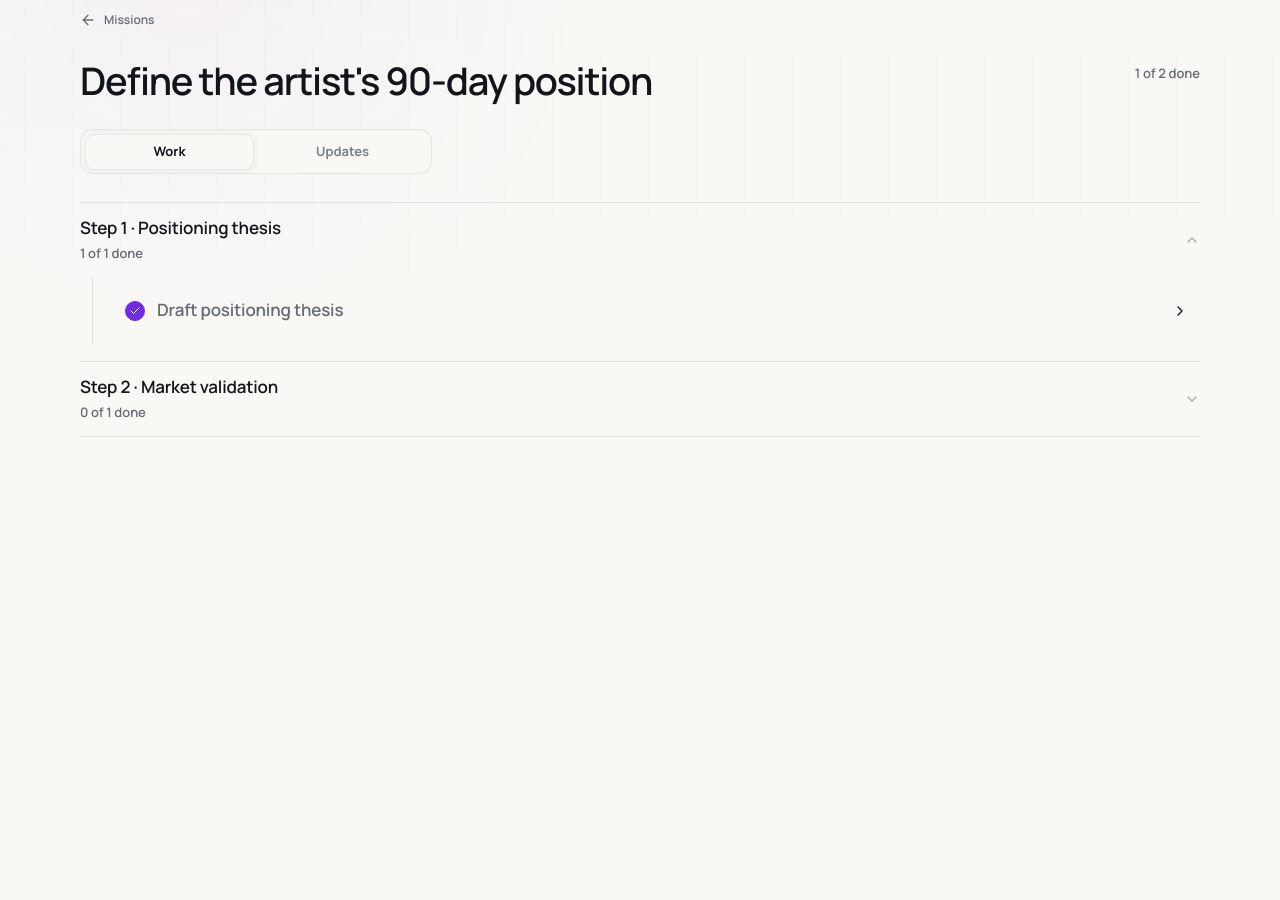
it: mobile-first mission workspace › keeps downstream work locked until Manager review is actually met
Click the button "Step 2 · Market validation 0 of 1 done" at point(105, 386), box [80,362,1200,436]
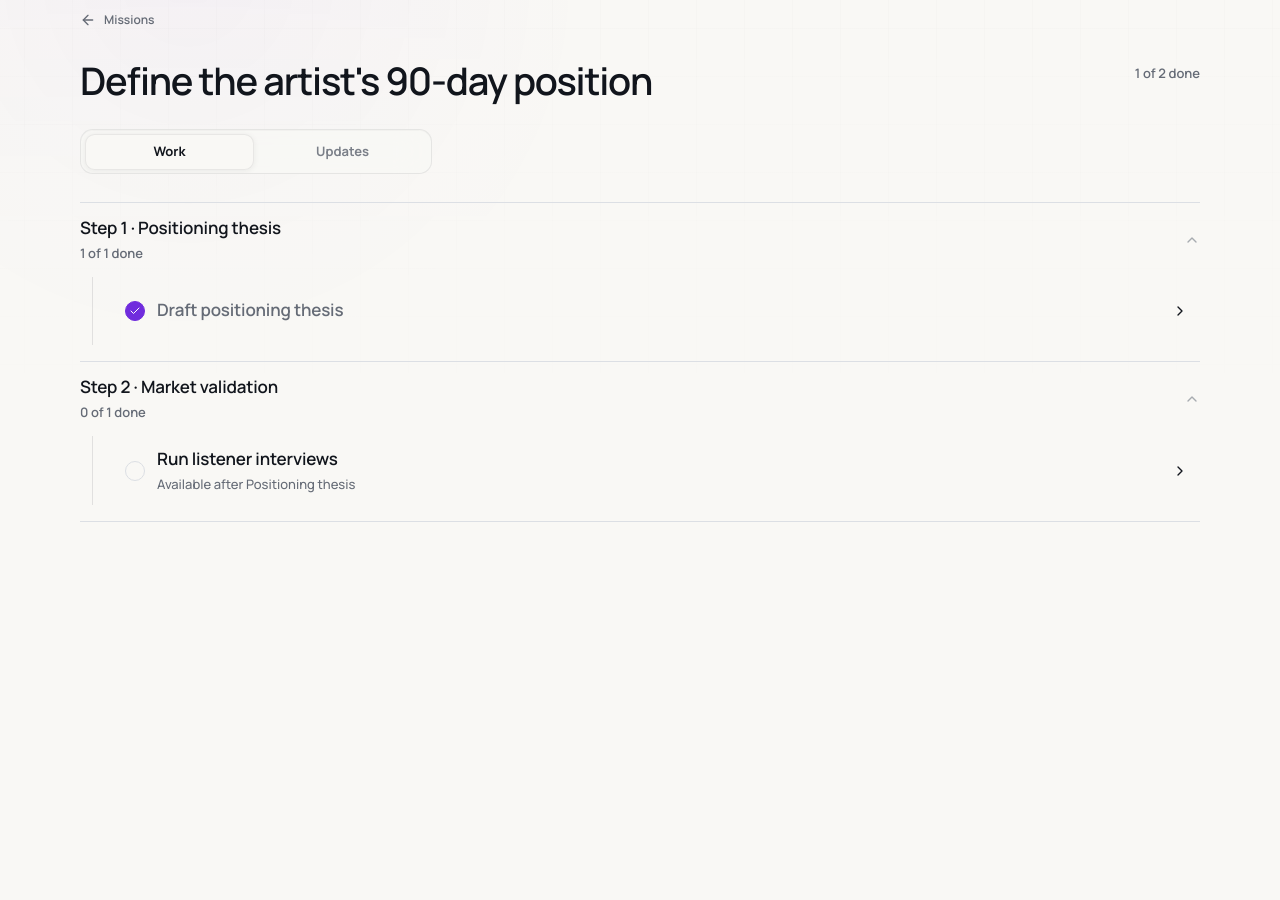
Result: the button "Run listener interviews Available after Positioning thesis" is enabled
Result: the text "Available after Positioning thesis" is shown at [157,475,355,493]
Click the button "Run listener interviews Available after Positioning thesis" at point(247, 458), box [113,436,1200,505]
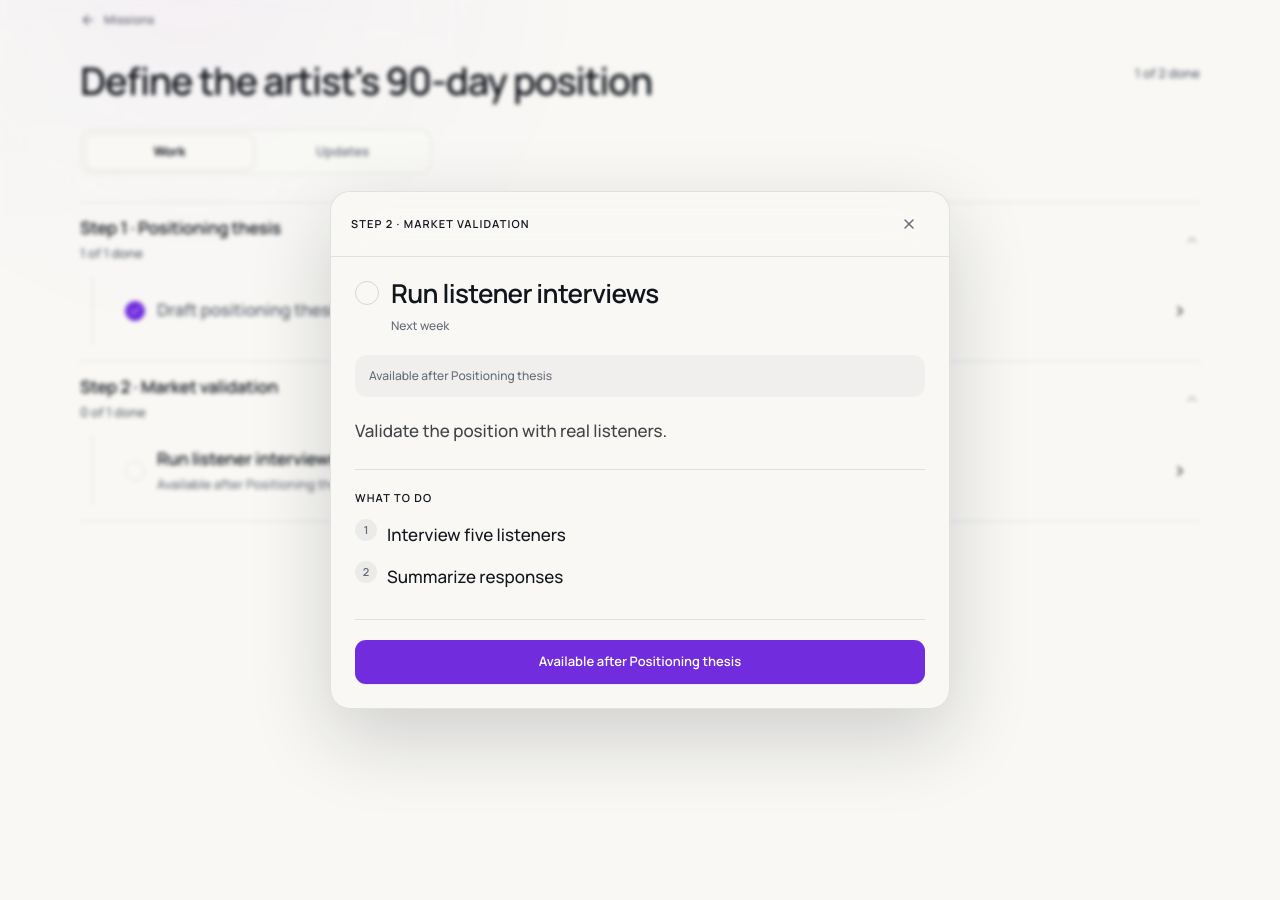
Result: the button "Available after Positioning thesis" is disabled at [355,640,925,684]
